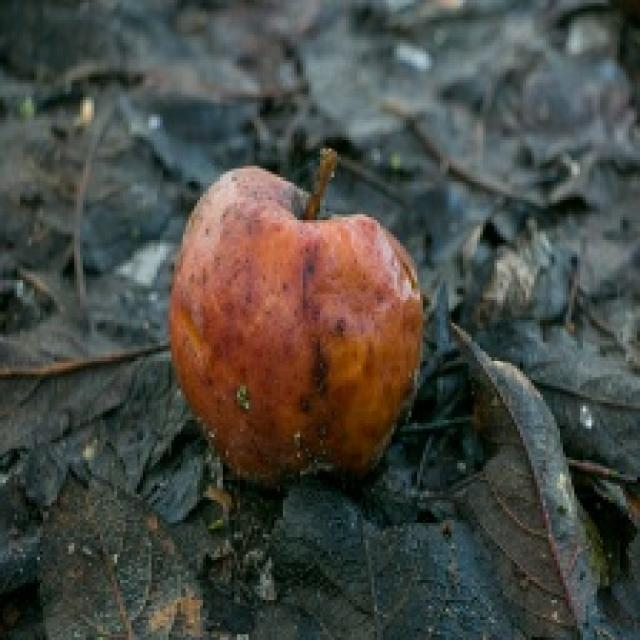rotten_apple: (178, 169, 426, 482)
